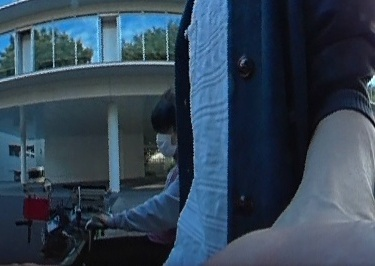person: (137, 91, 179, 266)
